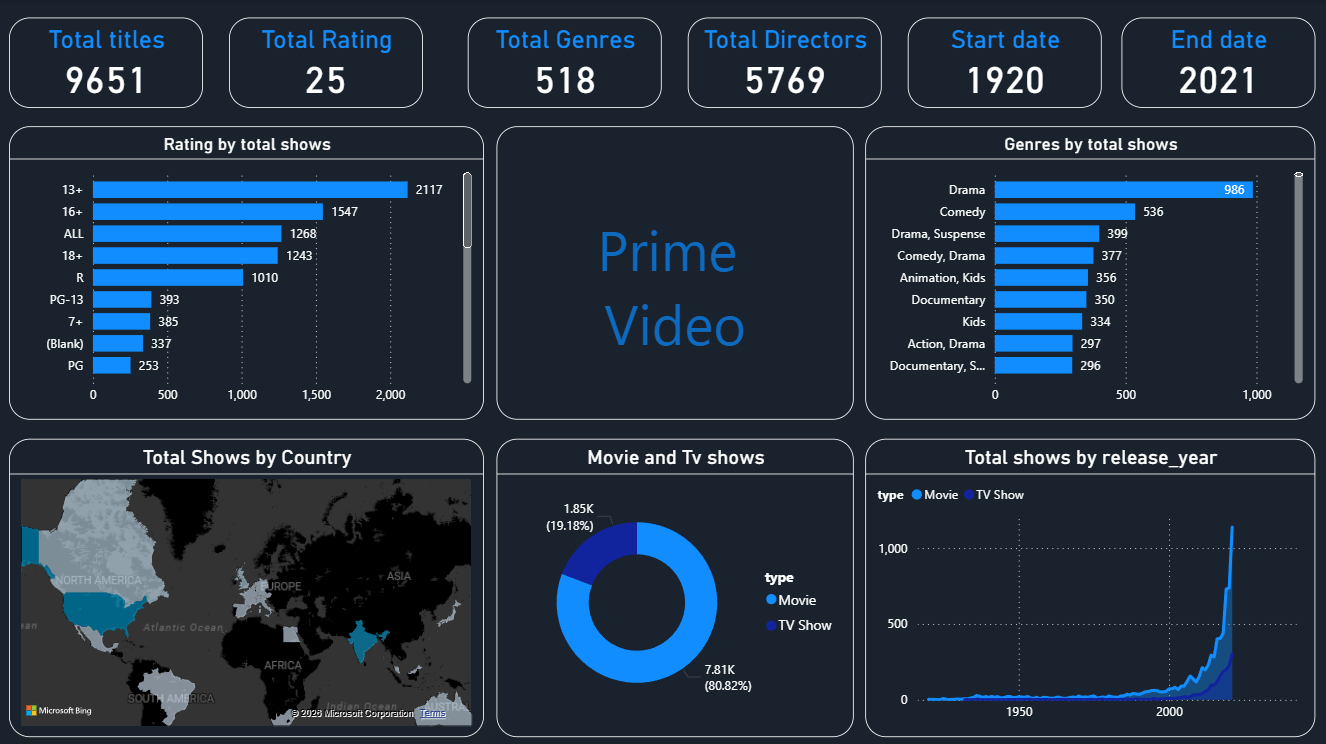

The dashboard page shown, as its layout file describes it:
{"tool":"powerbi","page":{"name":"Page 1","canvas":[1280,720],"ordinal":0},"visuals":[{"type":"filledMap","title":"Total Shows  by Country","fields":{"Category":["amazon_prime_titles.country"]},"box":[9.7,423.5,458.4,288.3],"z":0},{"type":"donutChart","title":"Movie and Tv shows","fields":{"Category":["amazon_prime_titles.type"],"Y":["CountNonNull(amazon_prime_titles.show_id)"]},"box":[480.2,423.5,345,288.3],"z":1},{"type":"areaChart","title":"Total shows by release_year","fields":{"Category":["amazon_prime_titles.release_year"],"Y":["CountNonNull(amazon_prime_titles.show_id)"],"Series":["amazon_prime_titles.type"]},"box":[836.1,423.5,434.3,288.3],"z":2},{"type":"barChart","title":"Rating by total shows","fields":{"Category":["amazon_prime_titles.rating"],"Y":["Count(amazon_prime_titles.show_id)"]},"box":[9.7,121.9,458.4,283.5],"z":3},{"type":"barChart","title":"Genres by total shows","fields":{"Category":["amazon_prime_titles.listed_in"],"Y":["Count(amazon_prime_titles.show_id)"]},"box":[836.1,121.9,434.3,283.5],"z":4},{"type":"card","title":"Total titles","fields":{"Values":["Count(amazon_prime_titles.title)"]},"box":[9.7,16.9,187,86.9],"z":5},{"type":"card","title":"Total Rating","fields":{"Values":["Count(amazon_prime_titles.rating)"]},"box":[222,16.9,187,86.9],"z":6},{"type":"card","title":"Total Genres","fields":{"Values":["Count(amazon_prime_titles.listed_in)"]},"box":[452.4,16.9,187,86.9],"z":7},{"type":"card","title":"Total Directors","fields":{"Values":["Count(amazon_prime_titles.director)"]},"box":[664.7,16.9,187,86.9],"z":8},{"type":"card","title":"Start date","fields":{"Values":["Min(amazon_prime_titles.release_year)"]},"box":[877.1,16.9,187,86.9],"z":9},{"type":"card","title":"End date","fields":{"Values":["Max(amazon_prime_titles.release_year)"]},"box":[1083.4,16.9,187,86.9],"z":10},{"type":"textbox","box":[480.2,121.9,345,283.5],"z":11}]}

Visuals, with their boxes in screenshot pixels (x1, y1, x2, y2), scaled from the page's 1280x720 canvas onto the 1326x744 screenshot:
"Total Shows  by Country" filledMap: box(10, 438, 485, 736)
"Movie and Tv shows" donutChart: box(497, 438, 855, 736)
"Total shows by release_year" areaChart: box(866, 438, 1316, 736)
"Rating by total shows" barChart: box(10, 126, 485, 419)
"Genres by total shows" barChart: box(866, 126, 1316, 419)
"Total titles" card: box(10, 17, 204, 107)
"Total Rating" card: box(230, 17, 424, 107)
"Total Genres" card: box(469, 17, 662, 107)
"Total Directors" card: box(689, 17, 882, 107)
"Start date" card: box(909, 17, 1102, 107)
"End date" card: box(1122, 17, 1316, 107)
textbox: box(497, 126, 855, 419)
